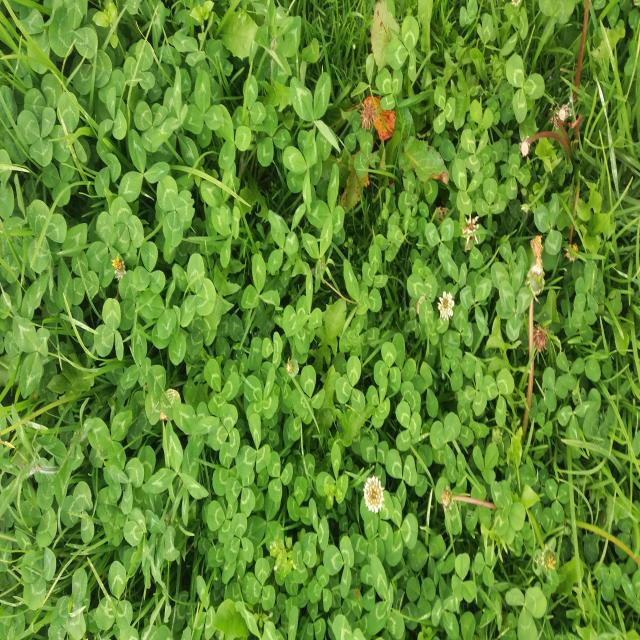Four Leaf Clover: (244, 366, 278, 421)
